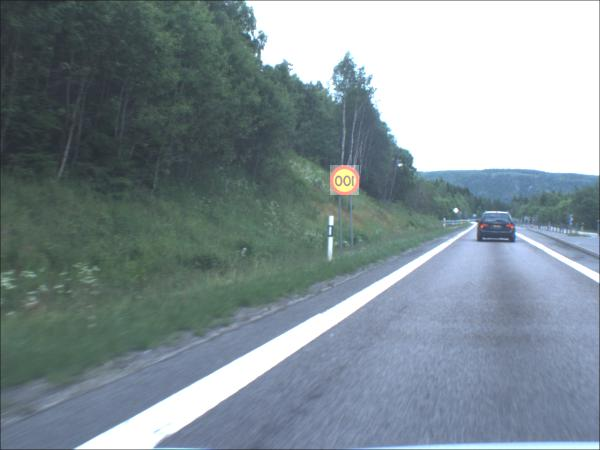100_SIGN: (330, 166, 360, 197)
PRIORITY_ROAD: (452, 209, 459, 215)
